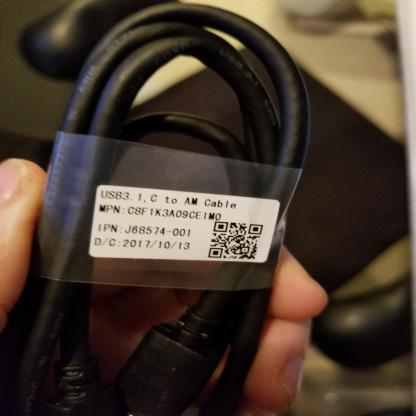qr: (206, 218, 264, 263)
